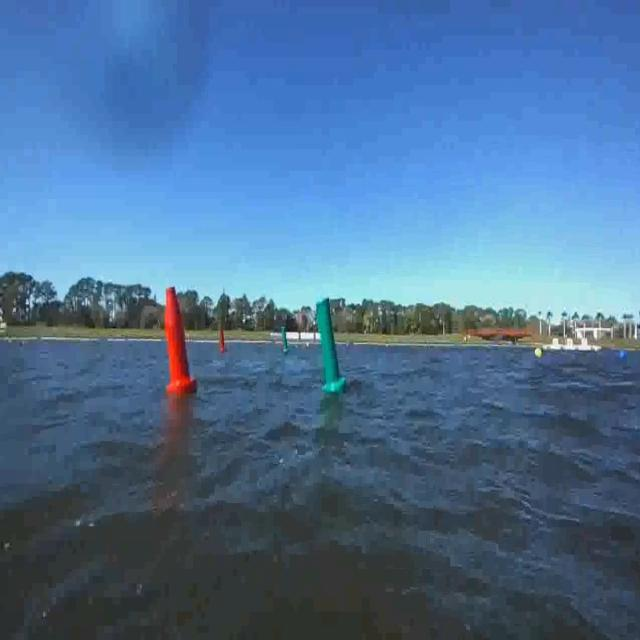blue-buoy: (620, 348, 630, 364)
green-column-buoy: (313, 295, 347, 394), (282, 327, 290, 352)
red-column-buoy: (164, 286, 197, 396), (219, 327, 227, 352)
yellow-buoy: (535, 346, 543, 360)
